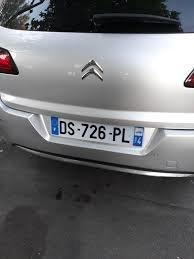license-plates: (46, 117, 146, 148)
